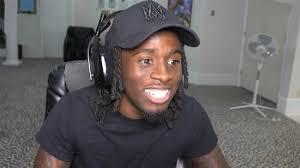kai-cenat: (117, 31, 189, 124)
